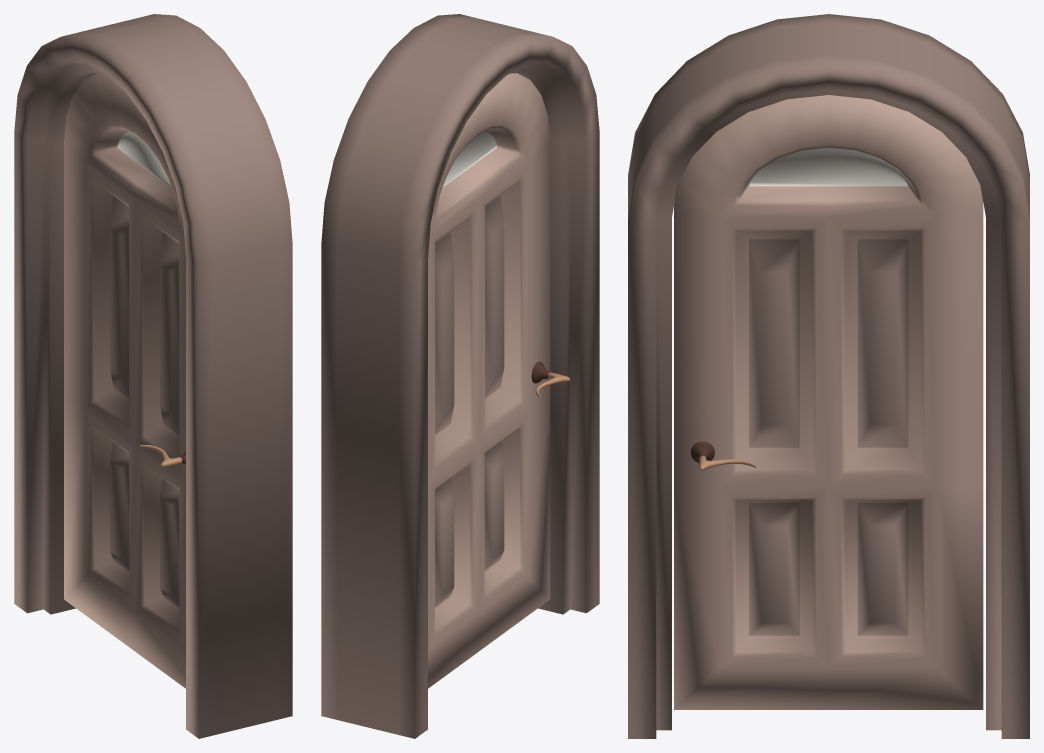
Rendered from BathDoor.fbx.
3 views of the same model, side by side, from view 1: azimuth 30°, elevation 25°; view 2: azimuth 150°, elevation 25°; view 3: azimuth 270°, elevation 25° (orthographic). The views are drawn at different scales.
Parts seen in each view (by area): view 1: Door_Bath_Frame, Door_Bath_Body; view 2: Door_Bath_Frame, Door_Bath_Body; view 3: Door_Bath_Body, Door_Bath_Frame.
Boxes of the visible parts, x1,y1,x2,y2 form: Door_Bath_Frame: [14, 14, 292, 738]; Door_Bath_Body: [64, 73, 185, 688]; Door_Bath_Frame: [321, 14, 599, 738]; Door_Bath_Body: [428, 73, 569, 688]; Door_Bath_Body: [674, 95, 983, 709]; Door_Bath_Frame: [628, 14, 1029, 738].
Bounding box in the file's own units: 801 × 4650 × 2507.
